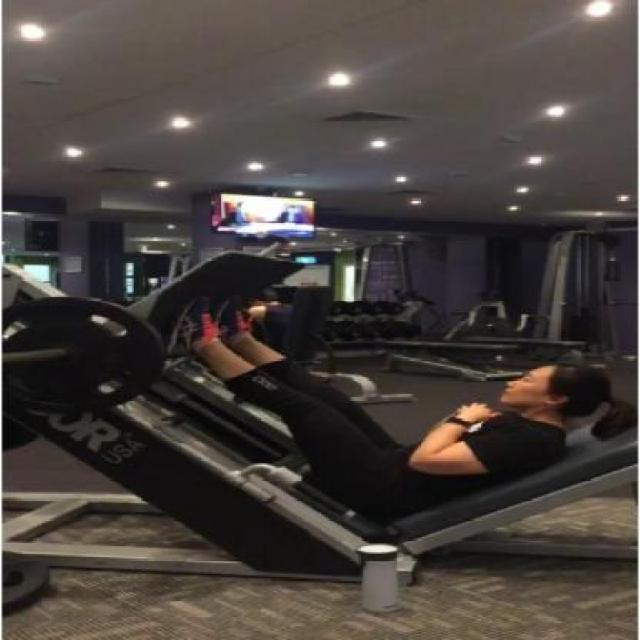leg press: (0, 206, 640, 611)
